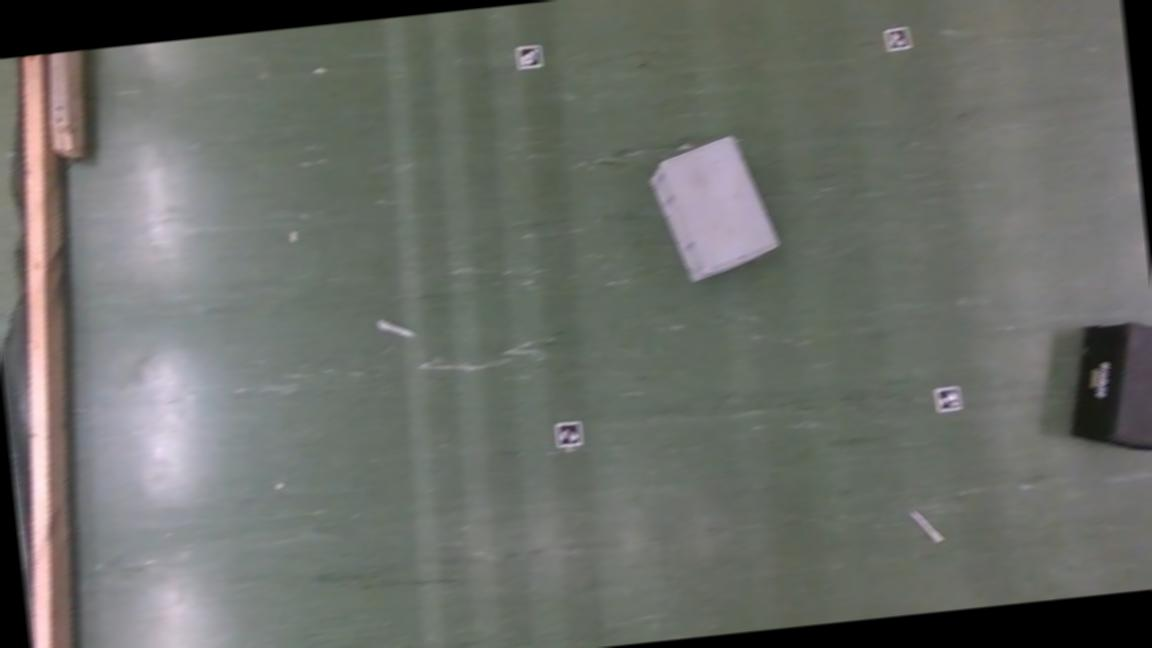probes: (910, 508, 942, 546), (378, 317, 412, 341)
rako: (645, 134, 782, 288), (1059, 318, 1152, 464)
